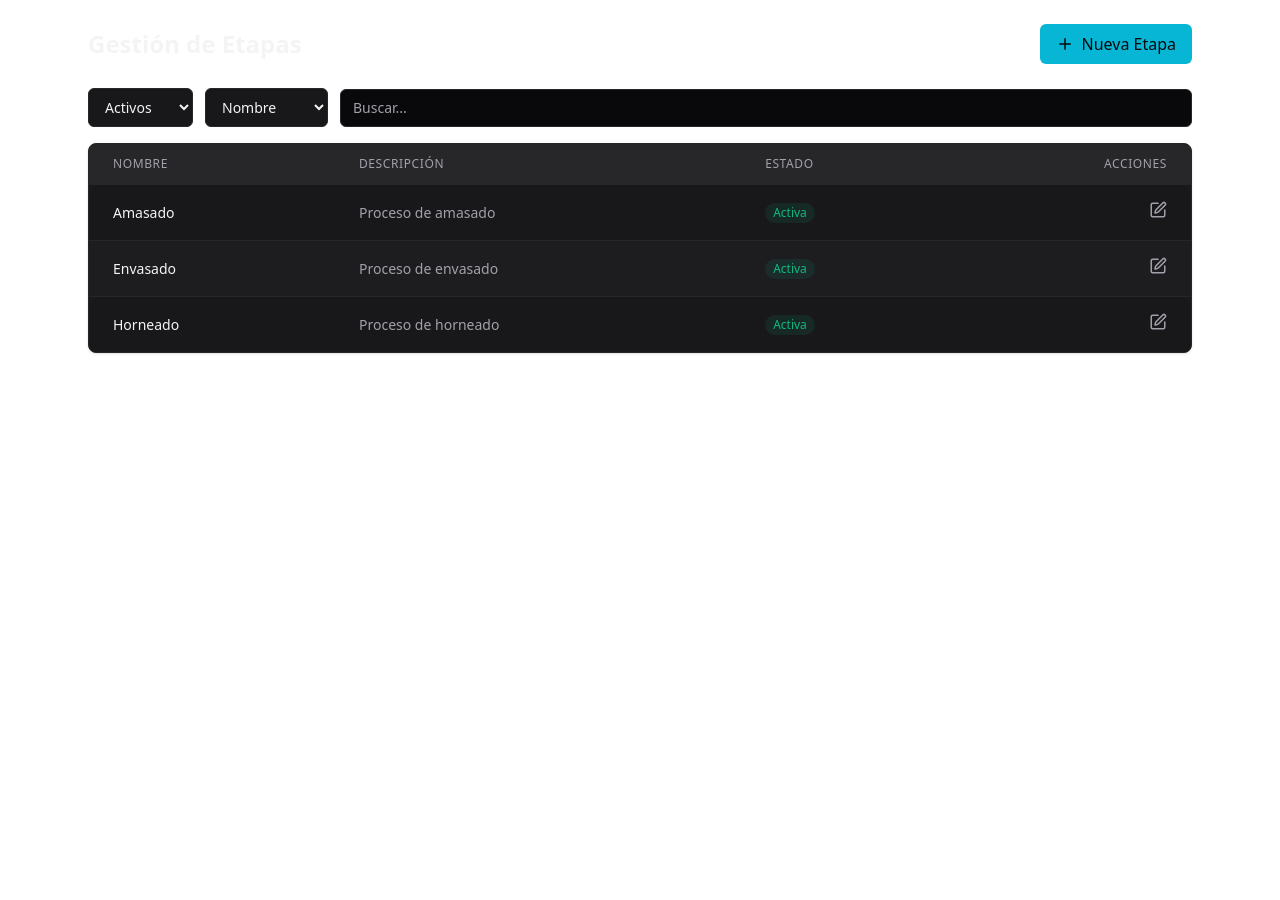
Test: EtapasPage › editing inactive etapa and clearing descripcion sends PUT with descripcion:null
Expected: the text "Amasado" is shown, [89,184,335,240]
Select "Inactivos" in the 1st dropdown at (140, 108), box [88,88,193,127]
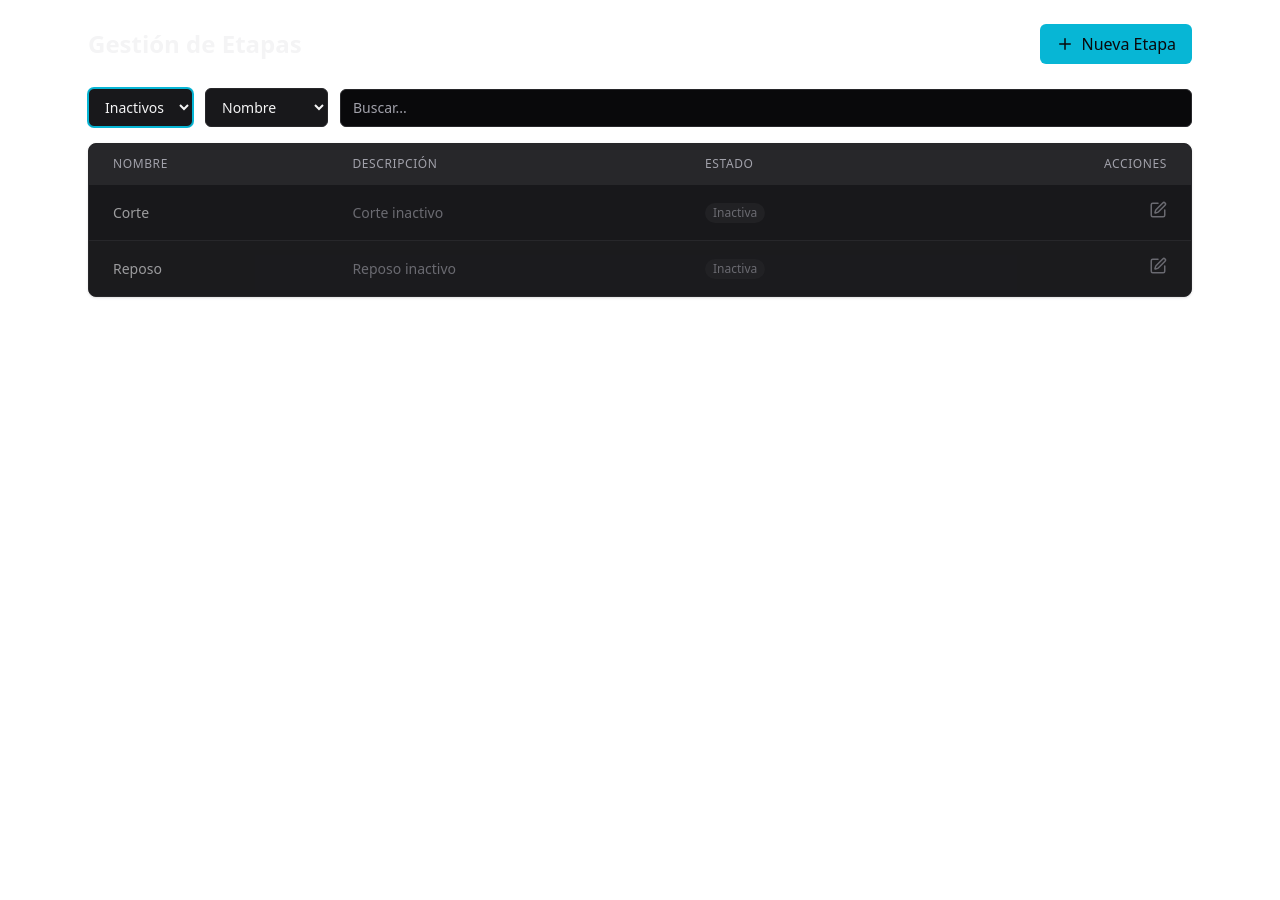
Now the text "Reposo" is shown, box [89,240,328,296]
Click the button titled "Editar" in the row of "Reposo inactivo" at (1158, 266), box [1149,257,1167,275]
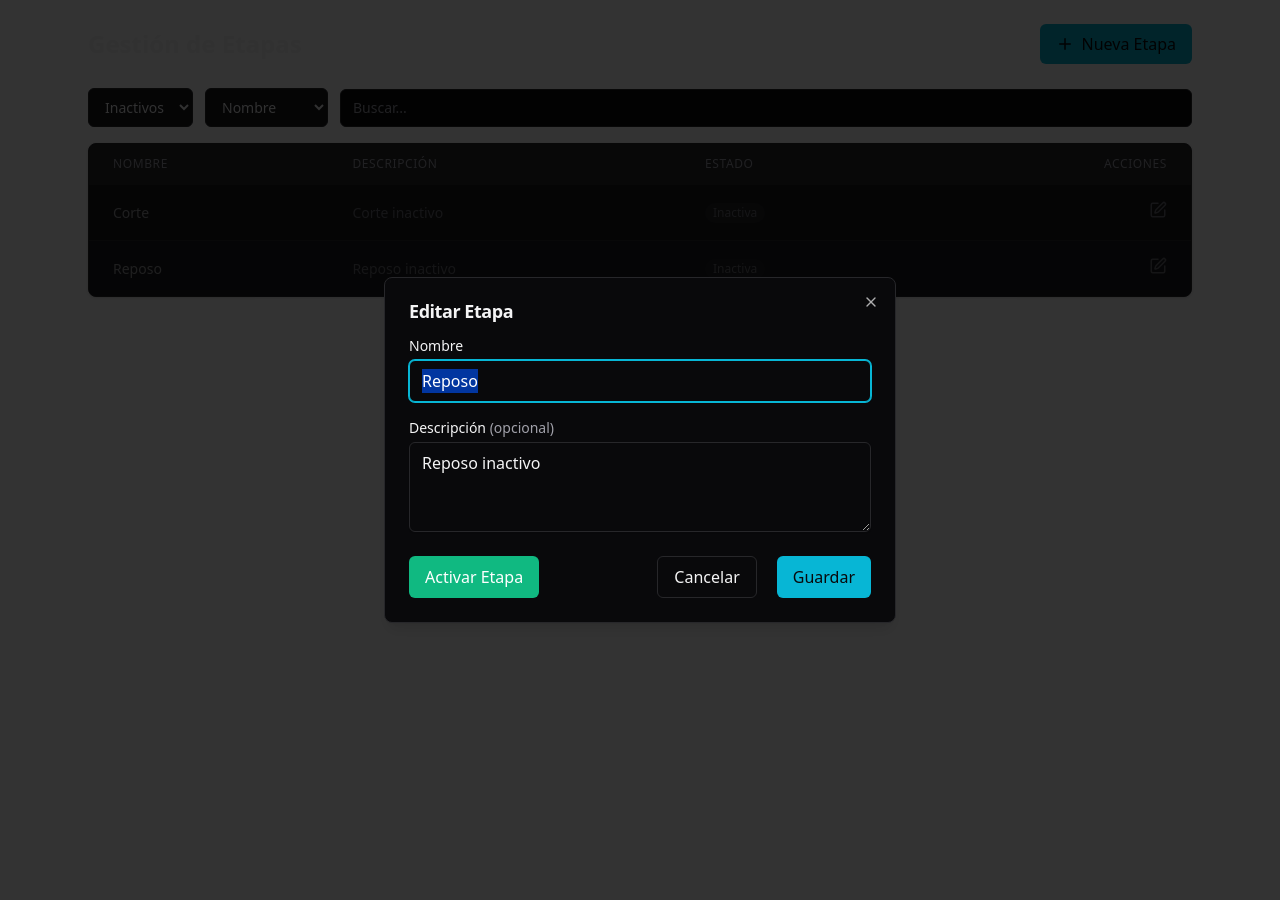
Clear the text box labelled "Descripción (opcional)" at (640, 487), box [409,442,871,532]
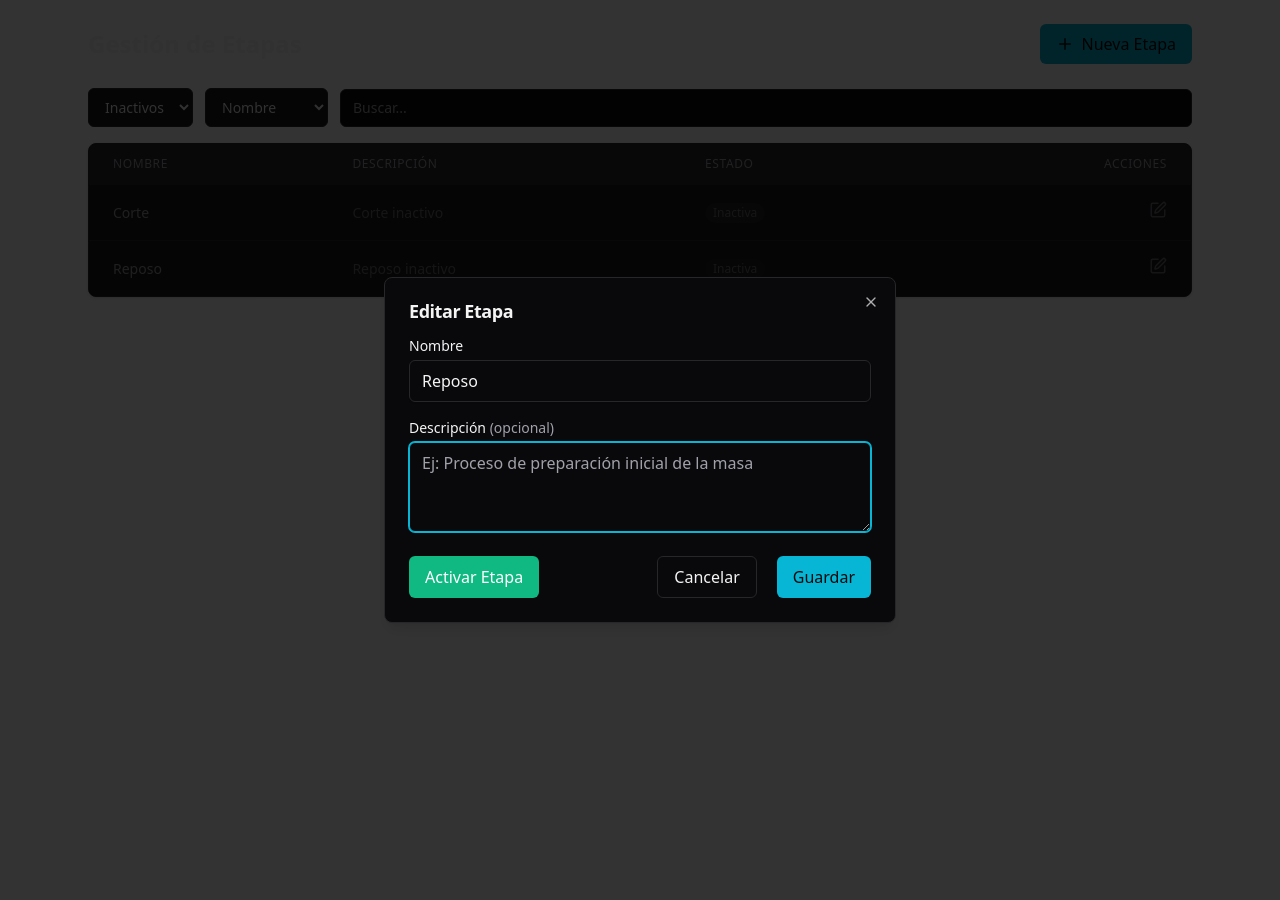
Click the button "Guardar" at (824, 577), box [777,556,871,598]
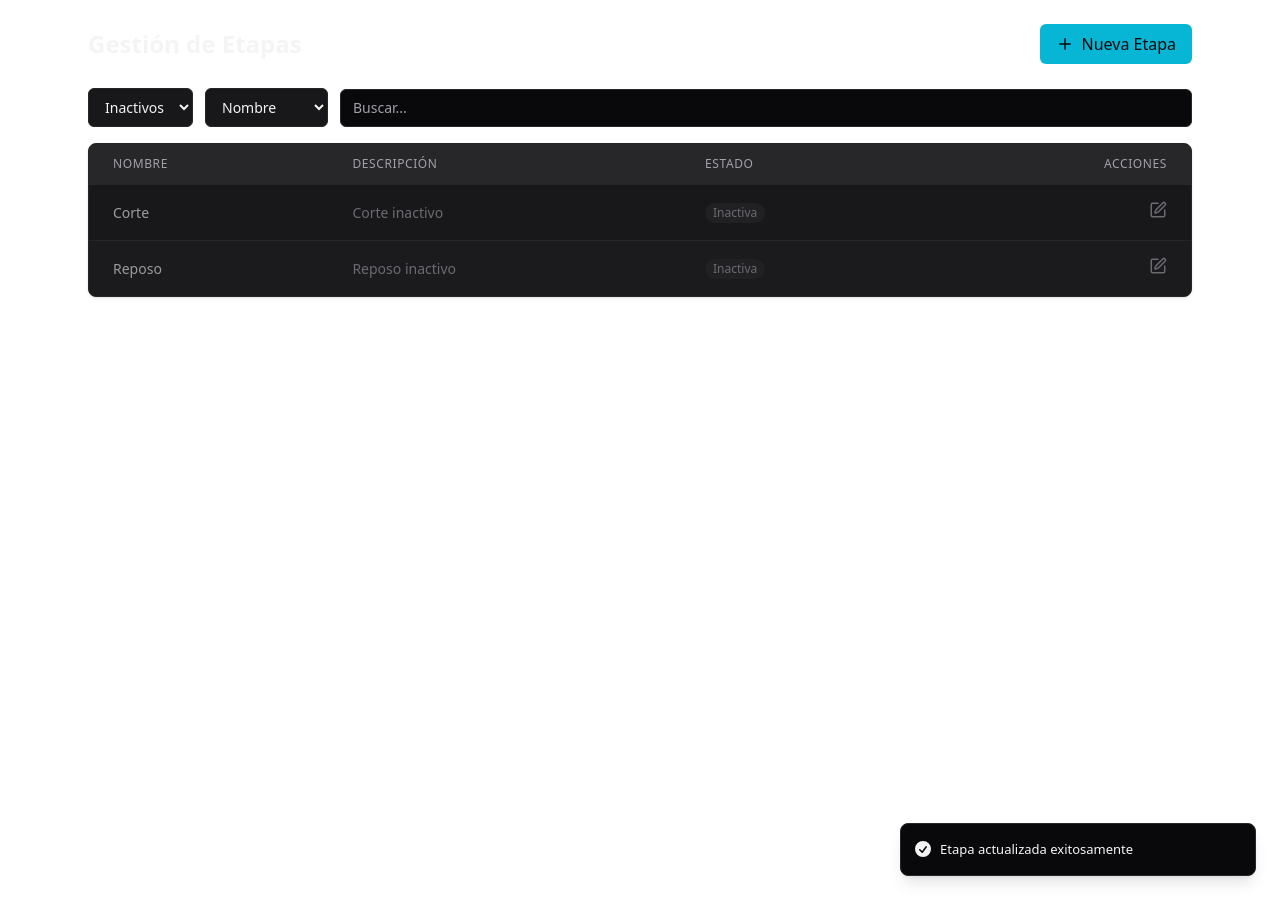
Now the heading "Editar Etapa" is gone
